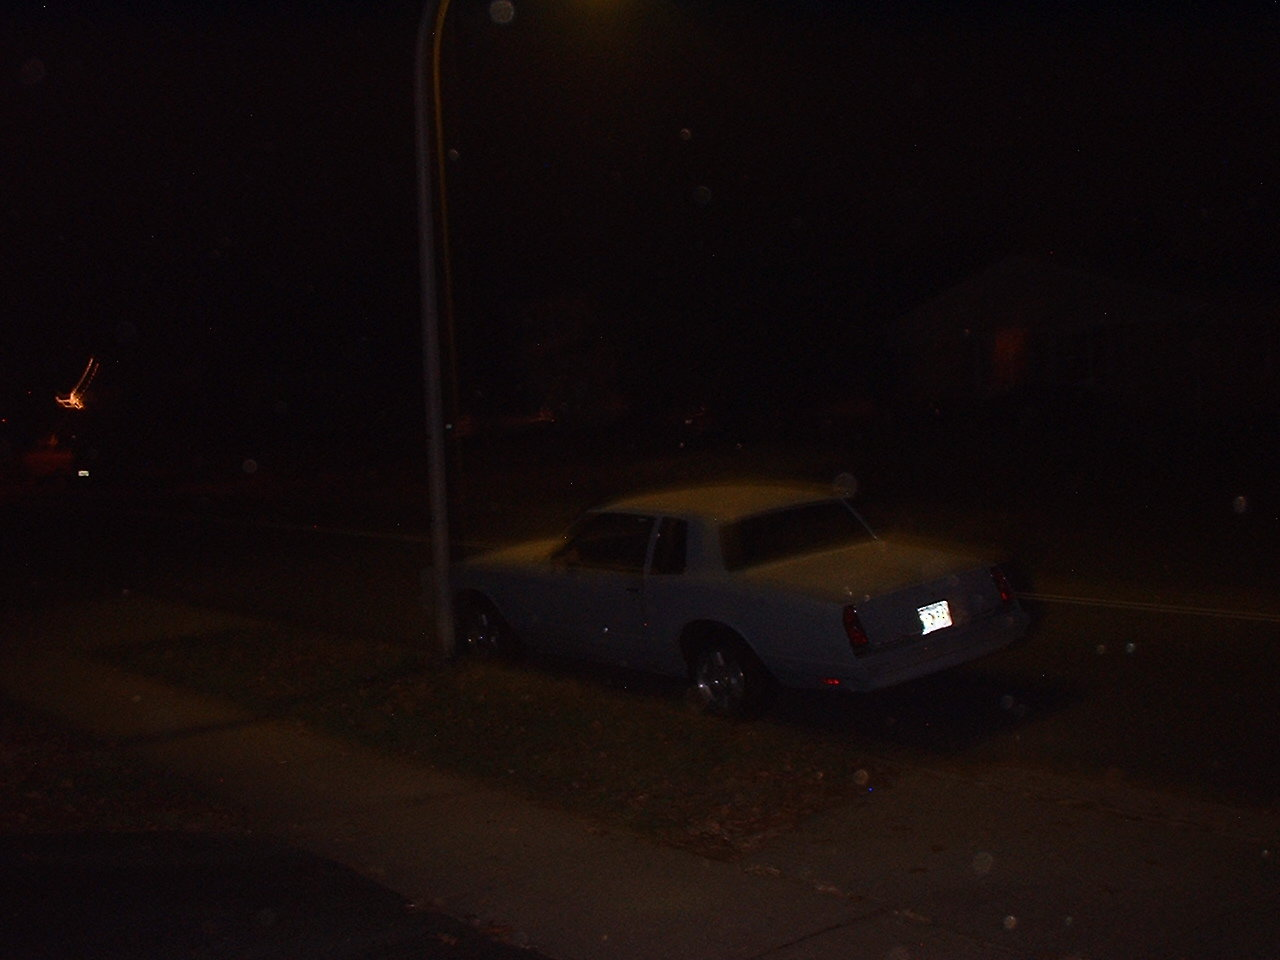car: (394, 460, 1054, 745)
